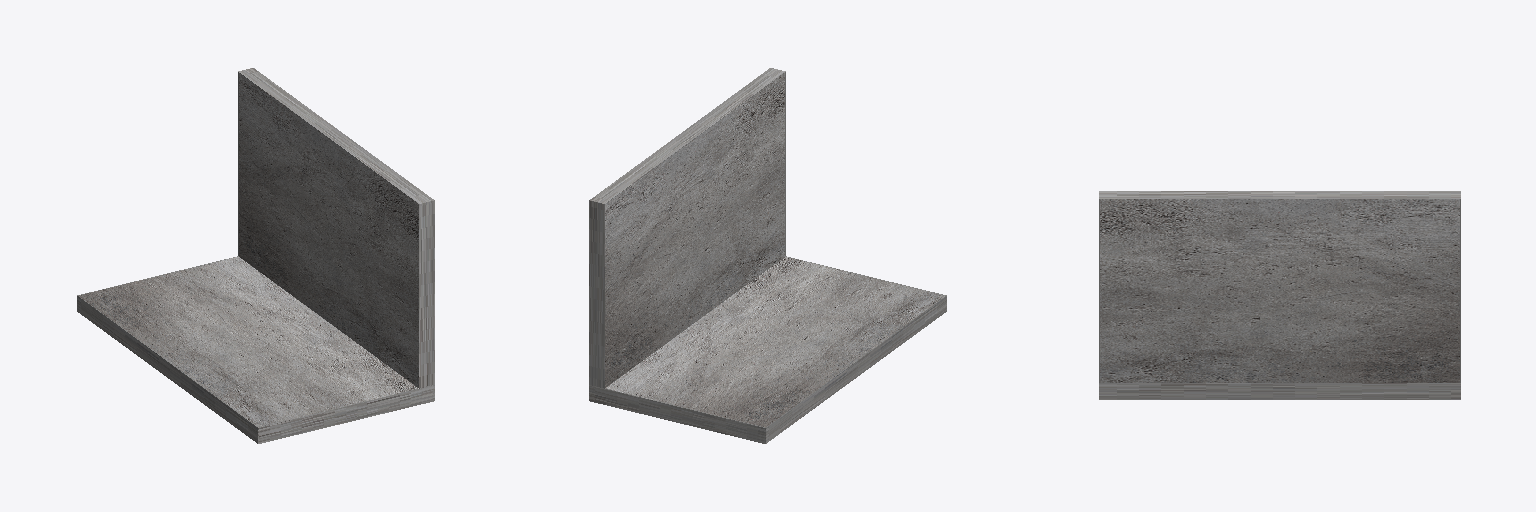
3 renders of one model, left to right at view 1: azimuth 30°, elevation 25°; view 2: azimuth 150°, elevation 25°; view 3: azimuth 270°, elevation 25°, orthographic.
Visible parts, largest first — view 1: Cube; view 2: Cube; view 3: Cube.
Part boxes in pixels (left/top/right/bottom): Cube: left=77, top=68, right=434, bottom=443; Cube: left=589, top=68, right=946, bottom=443; Cube: left=1099, top=191, right=1460, bottom=399.
Size of the model in its own units: 22.75 by 24.77 by 40.47.
1 materials, 1 textured.